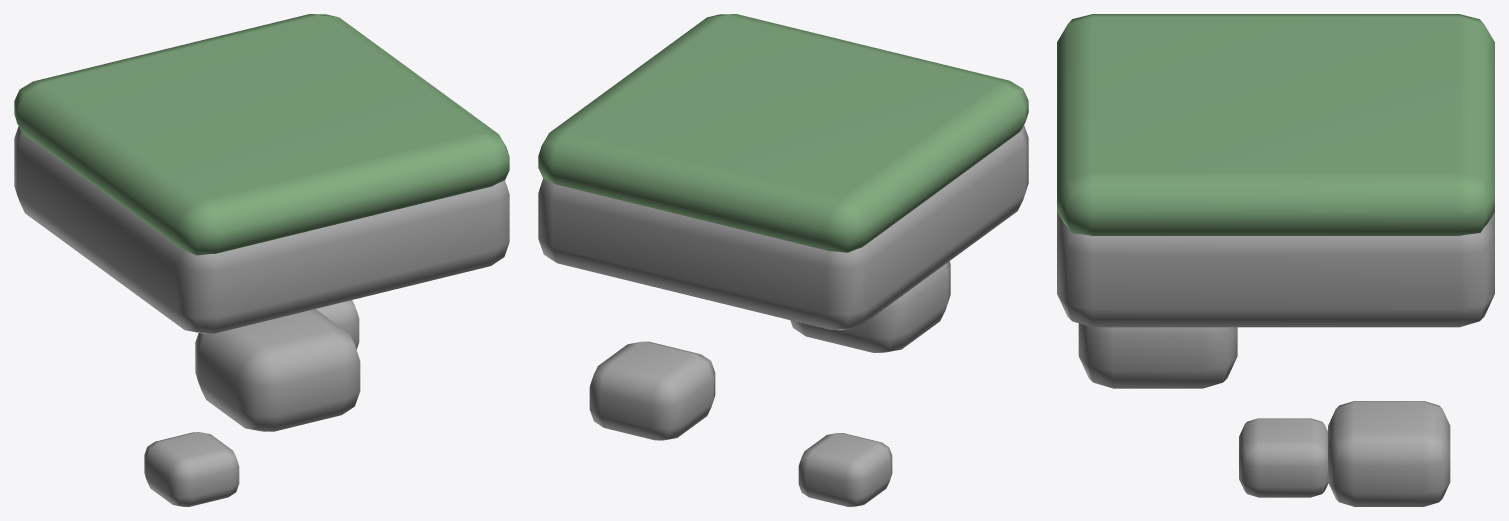
File: PlatformLevitating.fbx
3 views of the same model, side by side, from view 1: azimuth 30°, elevation 25°; view 2: azimuth 150°, elevation 25°; view 3: azimuth 270°, elevation 25° (orthographic). The views are drawn at different scales.
Parts seen in each view (by area): view 1: pCube1, pCube2, pCube3, pCube4, pCube5; view 2: pCube1, pCube2, pCube5, pCube4, pCube3; view 3: pCube1, pCube2, pCube5, pCube3, pCube4.
Part boxes in pixels (x1=…): pCube1: x1=14, y1=14, x2=509, y2=255; pCube2: x1=14, y1=126, x2=509, y2=333; pCube3: x1=195, y1=309, x2=360, y2=431; pCube4: x1=144, y1=432, x2=239, y2=506; pCube5: x1=316, y1=300, x2=359, y2=349; pCube1: x1=538, y1=14, x2=1028, y2=252; pCube2: x1=538, y1=125, x2=1028, y2=330; pCube5: x1=589, y1=341, x2=715, y2=440; pCube4: x1=798, y1=433, x2=892, y2=506; pCube3: x1=790, y1=261, x2=950, y2=352; pCube1: x1=1057, y1=14, x2=1494, y2=235; pCube2: x1=1057, y1=212, x2=1494, y2=327; pCube5: x1=1328, y1=401, x2=1450, y2=506; pCube3: x1=1078, y1=323, x2=1237, y2=388; pCube4: x1=1239, y1=418, x2=1328, y2=497.
Bounding box in the file's own units: 2.67 × 2.88 × 2.67.
